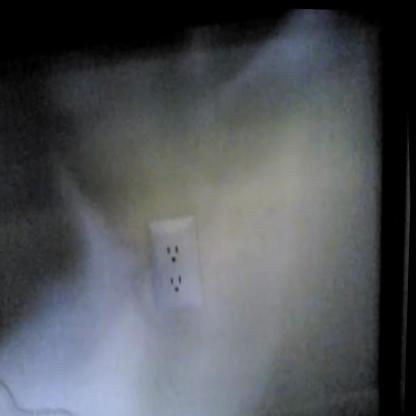OUTLET: (144, 212, 207, 318)
